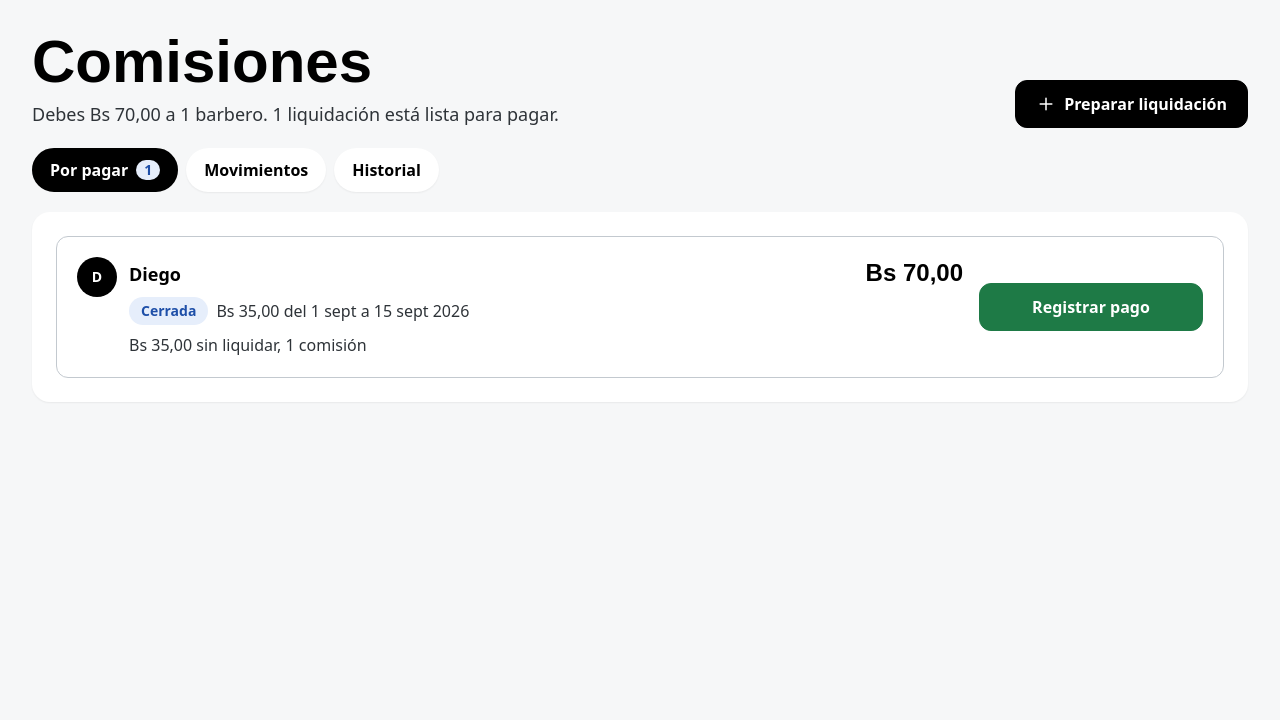
Test: CommissionsPage › previews what a new settlement will include before creating it
Click the button "Preparar liquidación".
click(1132, 104)  # box x1=1015 y1=80 x2=1248 y2=128
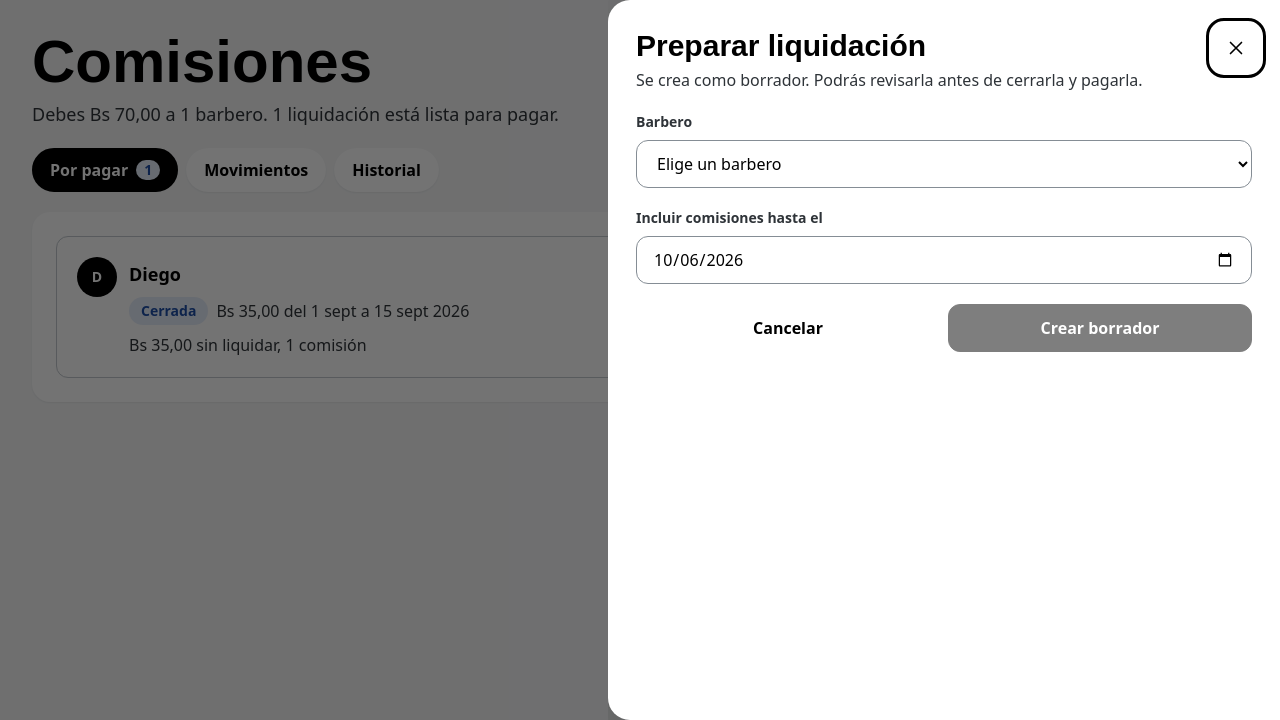
Expected: the button "Crear borrador" is disabled, x1=948 y1=304 x2=1252 y2=352
Select "Diego" in the dropdown labelled "Barbero" at (944, 164), box x1=636 y1=140 x2=1252 y2=188
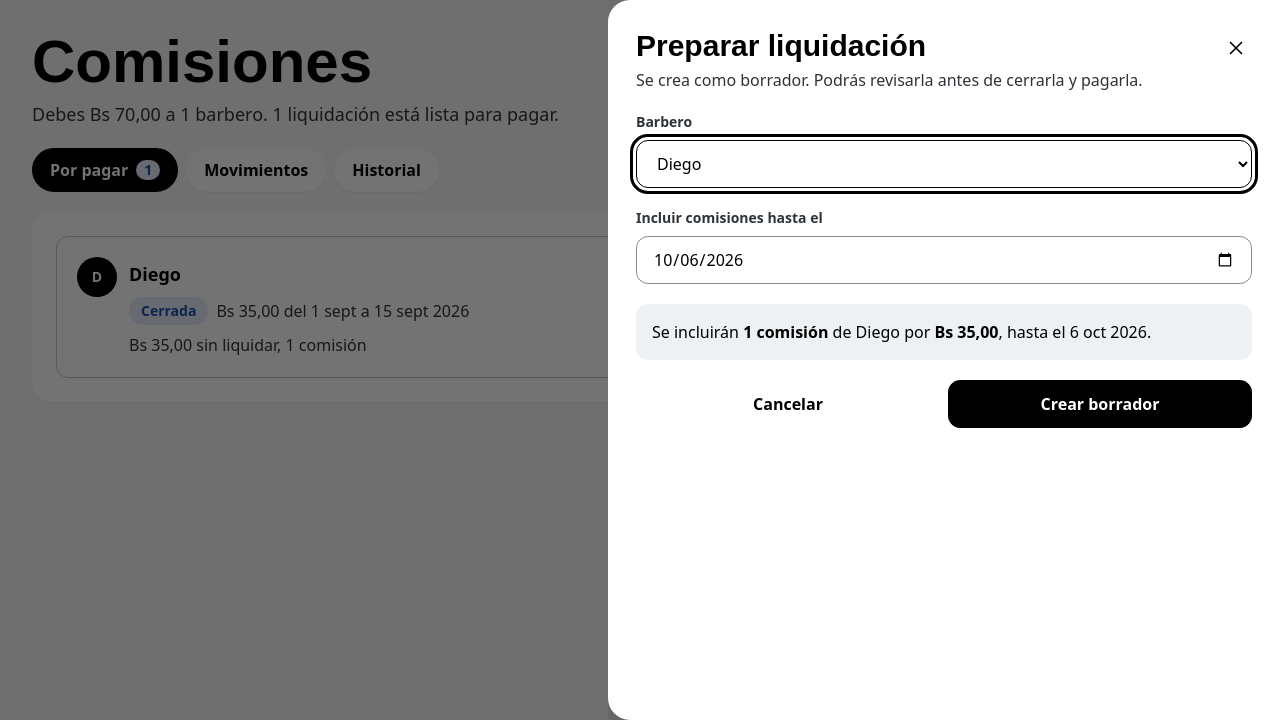
Expected: the message reads "Se incluirán 1 comisión de Diego por Bs 35,00, hasta el 6 oct 2026.", x1=636 y1=304 x2=1252 y2=360
Click the button "Crear borrador".
click(1100, 404)  # box x1=948 y1=380 x2=1252 y2=428
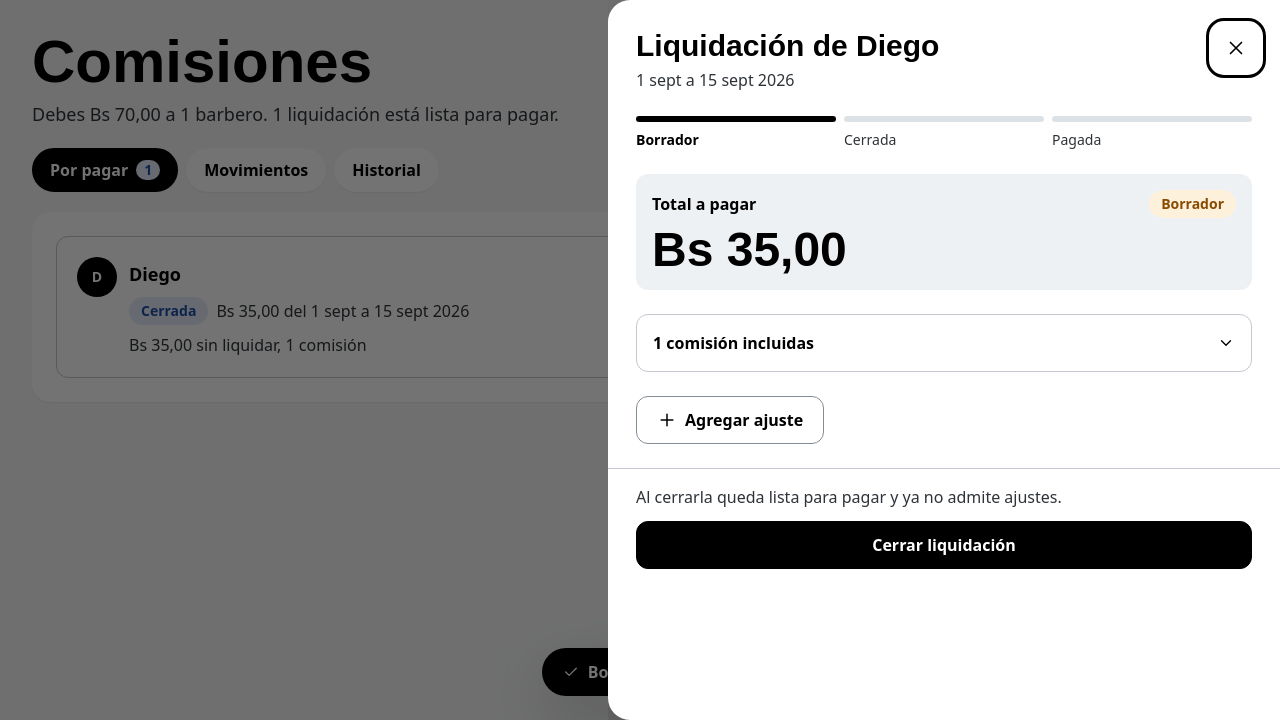
Expected: the dialog named "Detalle de liquidación" is shown, x1=608 y1=0 x2=1279 y2=719
